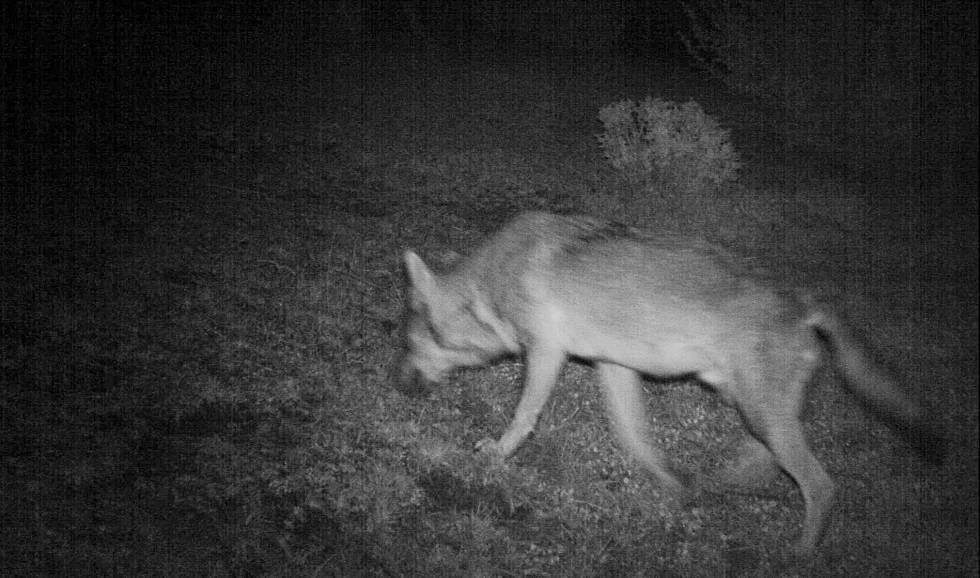Lobo: (342, 173, 901, 522)
